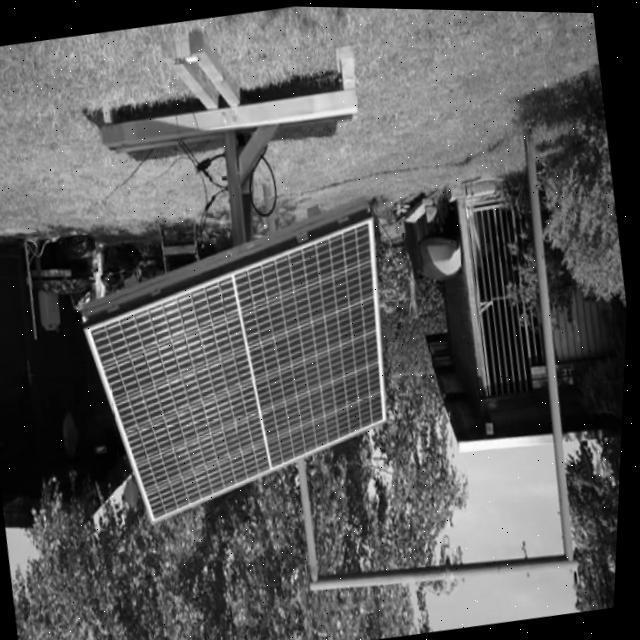Normal Solar Panel: (71, 213, 418, 532)
